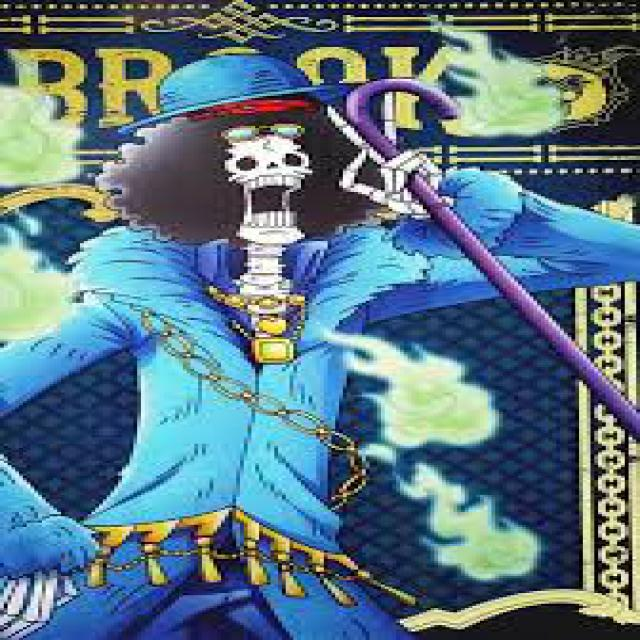Brook: (0, 55, 640, 640), (0, 128, 484, 561)
